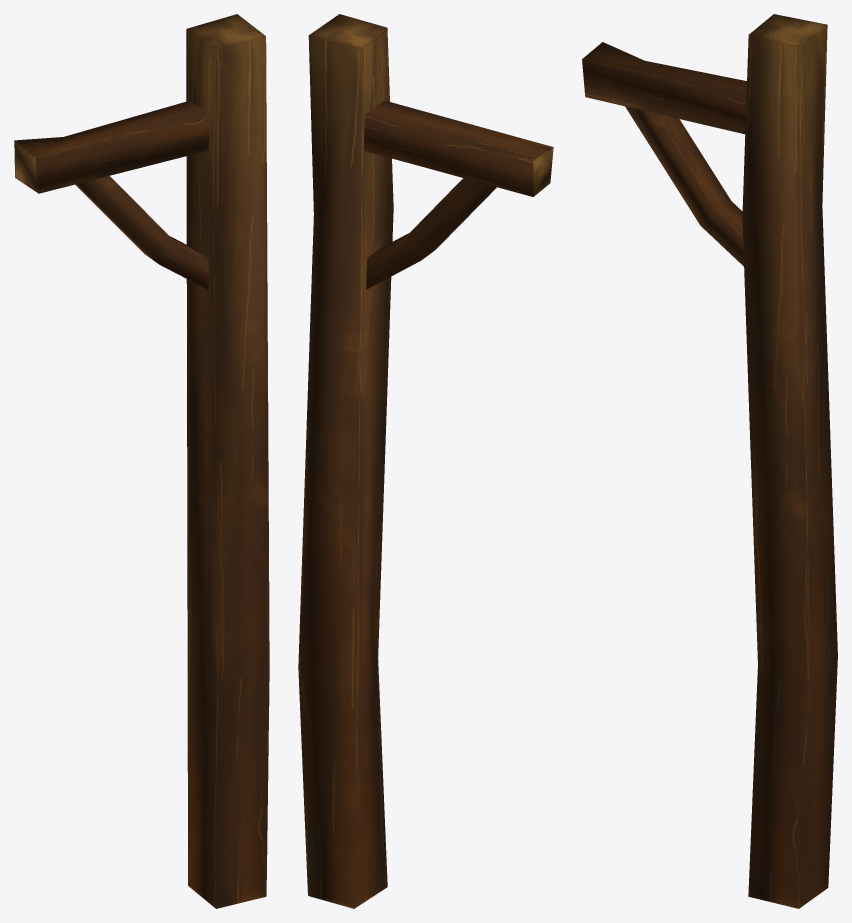
File: 7_V_Farol_Madera_Claro1_LOD_1.fbx
3 views of the same model, side by side, from view 1: azimuth 30°, elevation 25°; view 2: azimuth 150°, elevation 25°; view 3: azimuth 330°, elevation 25° (orthographic).
Parts seen in each view (by area): view 1: 7_V_Farol_Madera_Claro1_LOD_1; view 2: 7_V_Farol_Madera_Claro1_LOD_1; view 3: 7_V_Farol_Madera_Claro1_LOD_1.
Part boxes in pixels (x1=…): 7_V_Farol_Madera_Claro1_LOD_1: x1=14, y1=14, x2=269, y2=908; 7_V_Farol_Madera_Claro1_LOD_1: x1=298, y1=14, x2=553, y2=908; 7_V_Farol_Madera_Claro1_LOD_1: x1=582, y1=14, x2=837, y2=908.
Size of the model in its own units: 83.6 by 298 by 22.22.
